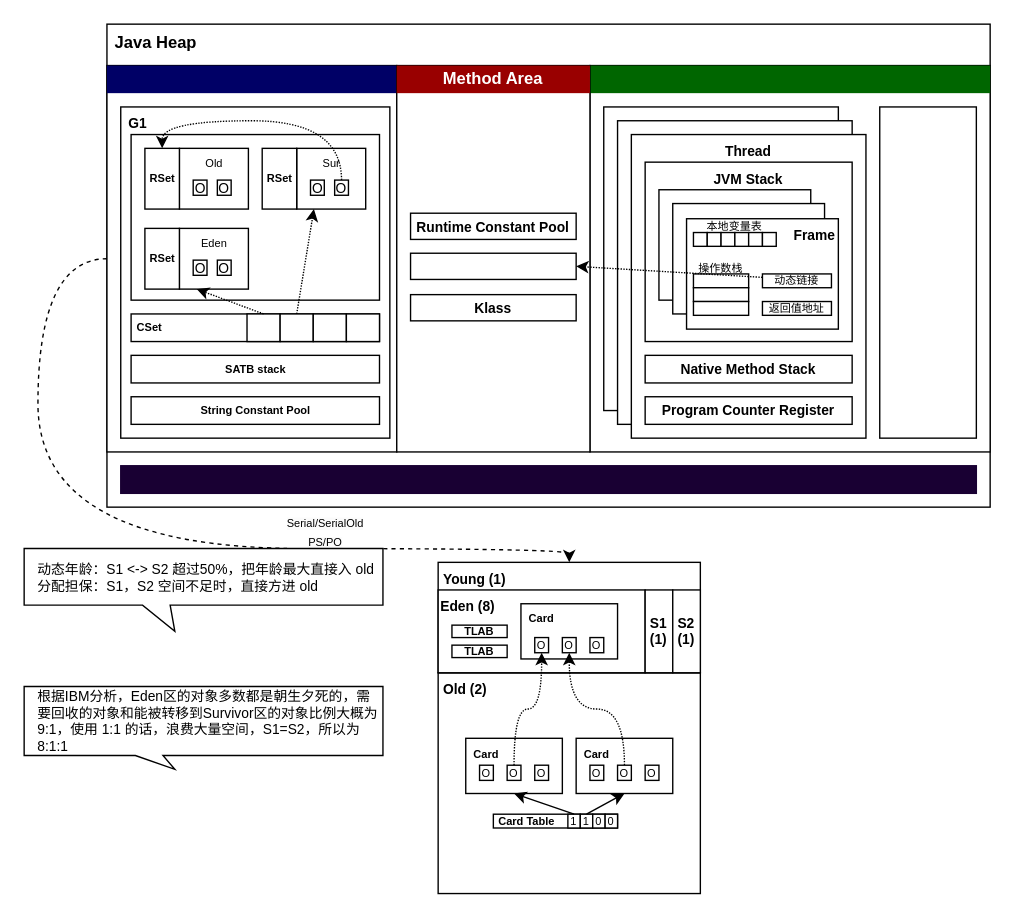
Image size: 1014x918. Some labels were removed from this diagram. Each missing label, with the centre of its shape:
Code Cache: the point at 927,272
Direct Mamory: the point at 547,478
Heap Space: the point at 251,78
Method References: the point at 492,265
Native Area: the point at 789,78
